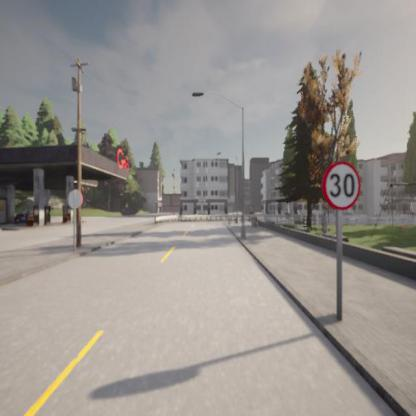traffic_sign_30: (322, 160, 361, 210)
